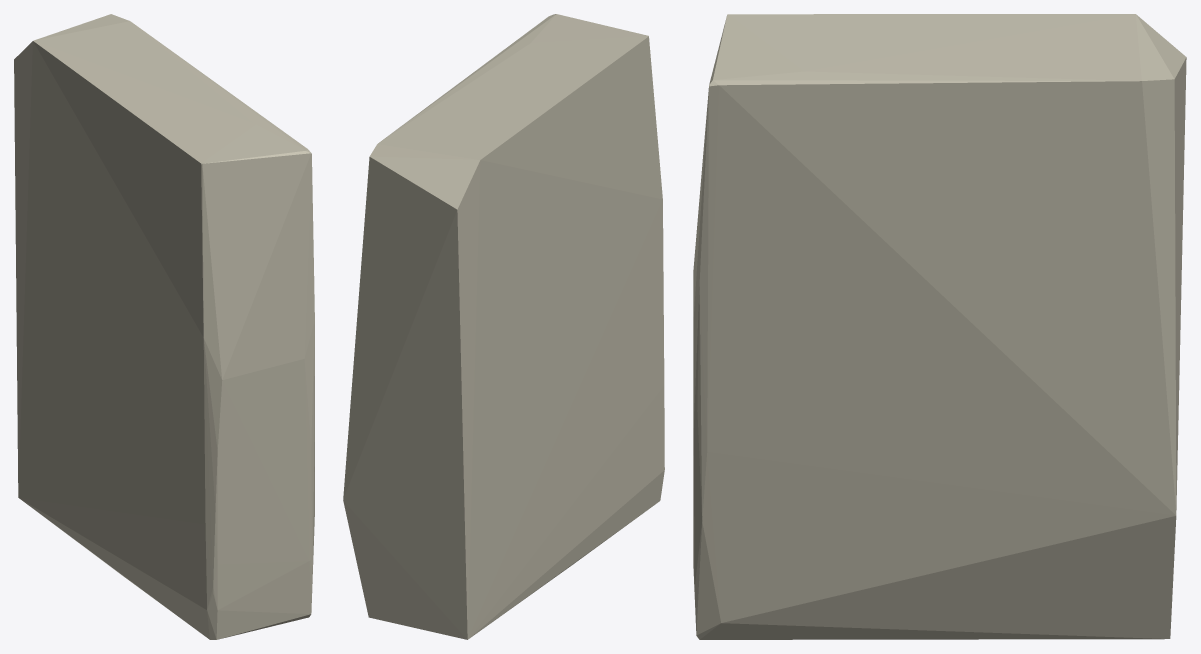
File: computer_desktop_tower_a01.glb
The picture shows the model from 3 angles, left to right: view 1: azimuth 30°, elevation 25°; view 2: azimuth 150°, elevation 25°; view 3: azimuth 270°, elevation 25°; orthographic projection. The views are drawn at different scales.
Parts seen in each view (by area): view 1: geometry_0; view 2: geometry_0; view 3: geometry_0.
Part boxes in pixels (x1,y1,x2,y2): geometry_0: (14,14,314,639); geometry_0: (343,14,664,639); geometry_0: (693,14,1186,639).
Size of the model in its own units: 0.1339 by 0.48 by 0.3768.
